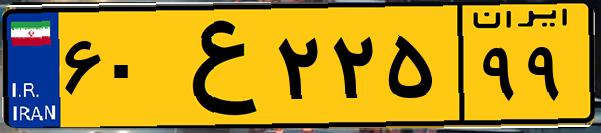0: (110, 28, 158, 98)
2: (270, 28, 330, 110), (330, 28, 385, 110)
5: (385, 28, 445, 110)
6: (57, 26, 110, 100)
9: (475, 38, 525, 113), (525, 38, 570, 115)
ع: (158, 12, 270, 120)
